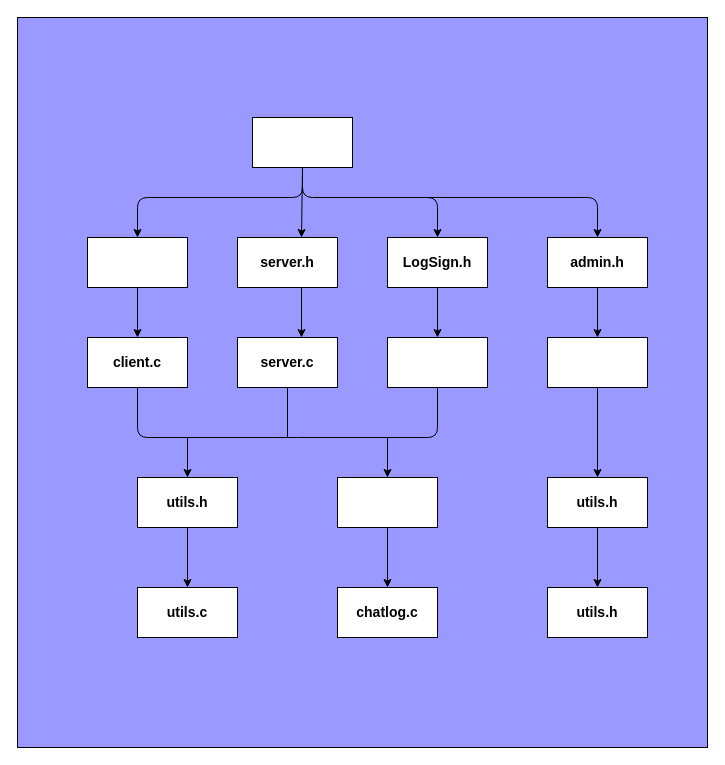
This 725x765 diagram has some shape labels left out. Each missing label, with the centre of its shape:
"admin.c" belongs at point 597,362.
"chatlog.h" belongs at point 387,502.
"client.h" belongs at point 137,262.
"LogSign.c" belongs at point 437,362.
"main.c" belongs at point 302,142.
